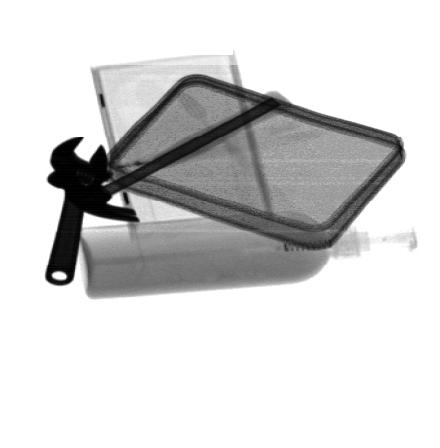Hammer: (48, 90, 294, 222)
Wrench: (44, 137, 115, 286)
